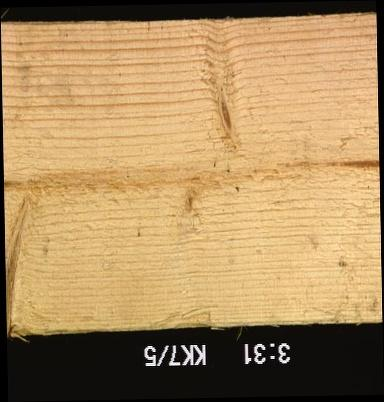small_knot: (173, 191, 199, 219)
